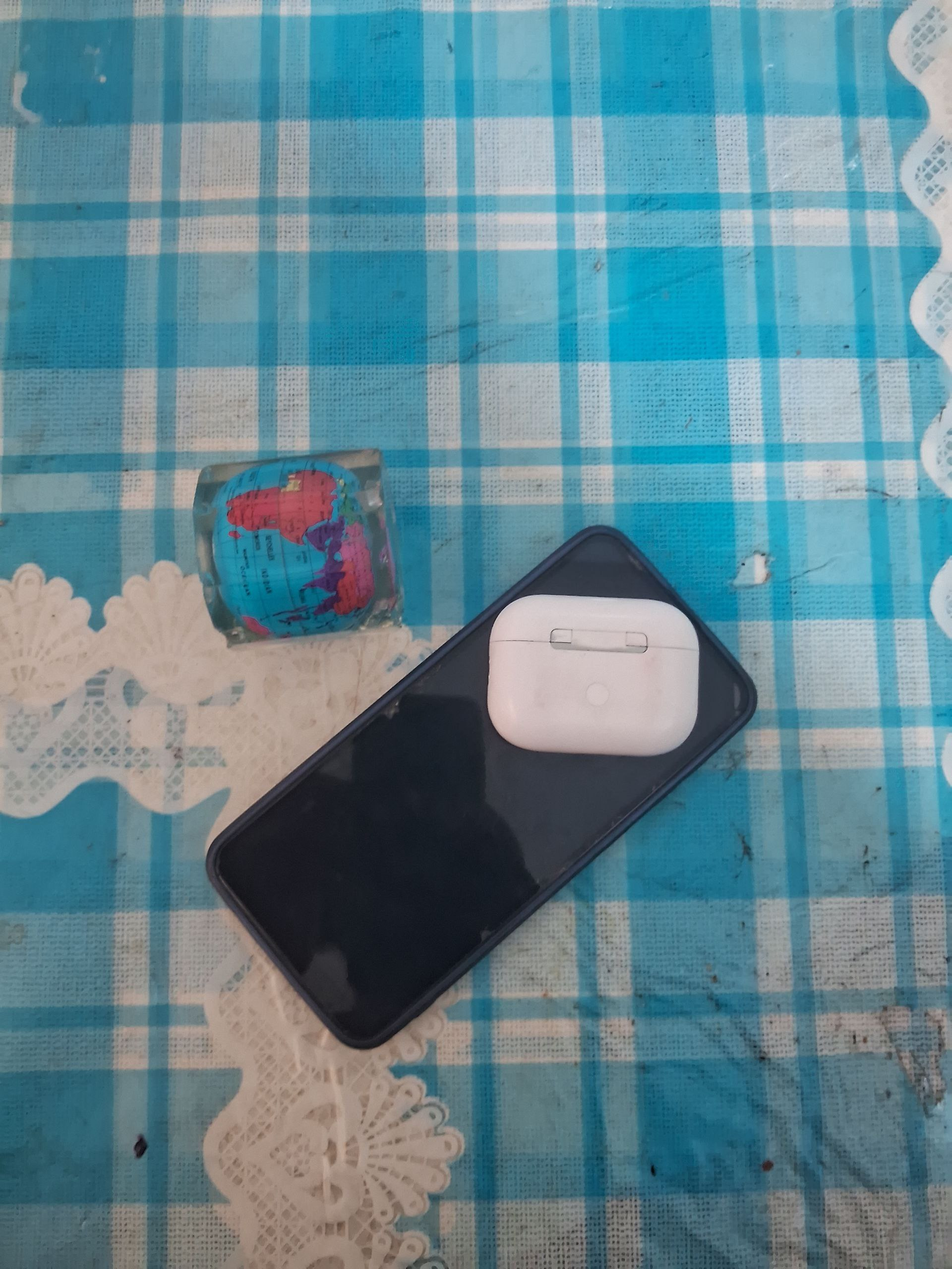Air_pod: (483, 589, 703, 756)
Smart_phone: (201, 520, 766, 1059)
world_globe: (189, 446, 406, 650)
